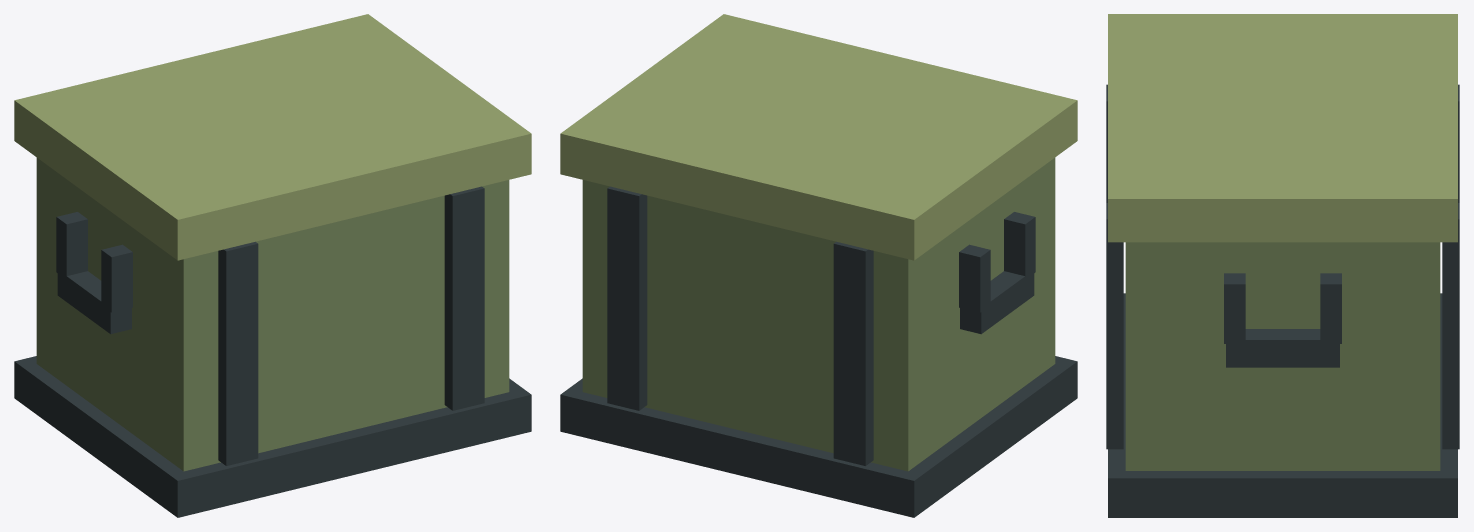
File: generic_crate.glb
3 renders of one model, left to right at view 1: azimuth 30°, elevation 25°; view 2: azimuth 150°, elevation 25°; view 3: azimuth 270°, elevation 25°, orthographic. The views are drawn at different scales.
Parts seen in each view (by area): view 1: crate_lid, crate_body, crate_lower_skirt, crate_front_slats_0, crate_front_slats_1, crate_handle_left_bar, crate_handle_left_a, crate_handle_left_b; view 2: crate_lid, crate_body, crate_lower_skirt, crate_back_slats_0, crate_back_slats_1, crate_handle_left_bar, crate_handle_left_b, crate_handle_left_a; view 3: crate_lid, crate_body, crate_lower_skirt, crate_handle_right_bar, crate_back_slats_1, crate_front_slats_1, crate_handle_right_a, crate_handle_right_b.
Part boxes in pixels (<box>): crate_lid: <box>14,14,531,260</box>; crate_body: <box>36,157,509,471</box>; crate_lower_skirt: <box>14,356,531,517</box>; crate_front_slats_0: <box>218,241,258,465</box>; crate_front_slats_1: <box>444,186,484,410</box>; crate_handle_left_bar: <box>57,271,131,334</box>; crate_handle_left_a: <box>101,244,132,312</box>; crate_handle_left_b: <box>56,212,87,279</box>; crate_lid: <box>560,14,1077,260</box>; crate_body: <box>582,157,1055,471</box>; crate_lower_skirt: <box>560,356,1077,517</box>; crate_back_slats_0: <box>833,241,873,465</box>; crate_back_slats_1: <box>607,186,647,410</box>; crate_handle_left_bar: <box>960,271,1034,334</box>; crate_handle_left_b: <box>959,244,990,312</box>; crate_handle_left_a: <box>1004,212,1035,275</box>; crate_lid: <box>1108,14,1457,242</box>; crate_body: <box>1125,242,1440,470</box>; crate_lower_skirt: <box>1108,293,1457,517</box>; crate_handle_right_bar: <box>1226,329,1339,367</box>; crate_back_slats_1: <box>1442,203,1459,449</box>; crate_front_slats_1: <box>1106,203,1123,449</box>; crate_handle_right_a: <box>1224,273,1245,343</box>; crate_handle_right_b: <box>1320,273,1341,343</box>.
Bounding box in the file's own units: 0.534 × 0.4025 × 0.404.
